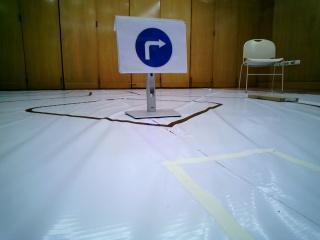right: (116, 16, 186, 73)
